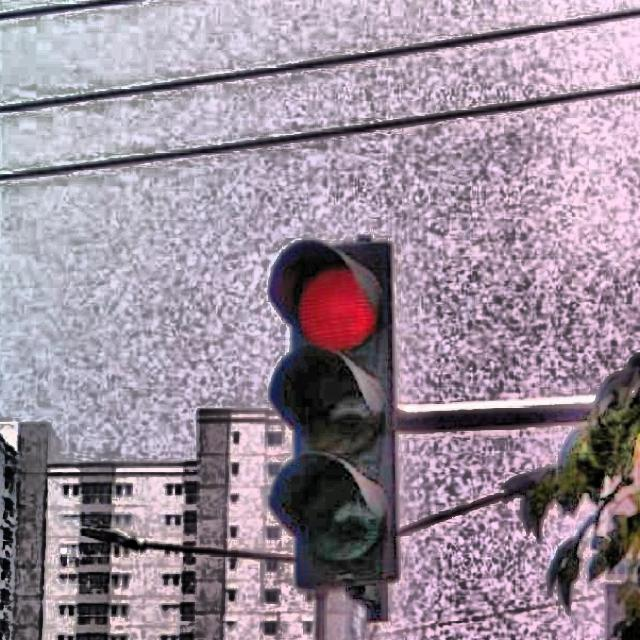red: (291, 238, 396, 585)
